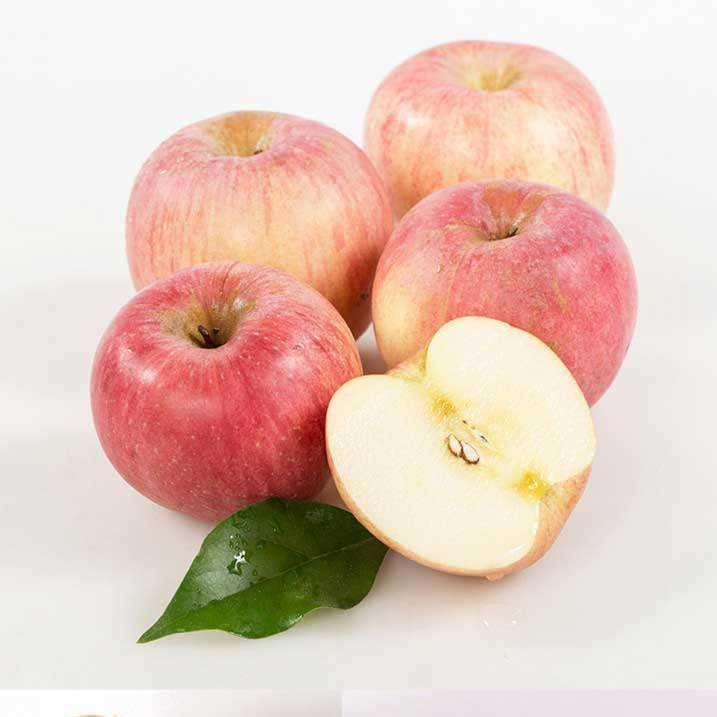apple: (89, 274, 365, 531), (371, 179, 634, 401), (120, 112, 402, 314), (361, 38, 619, 220)
